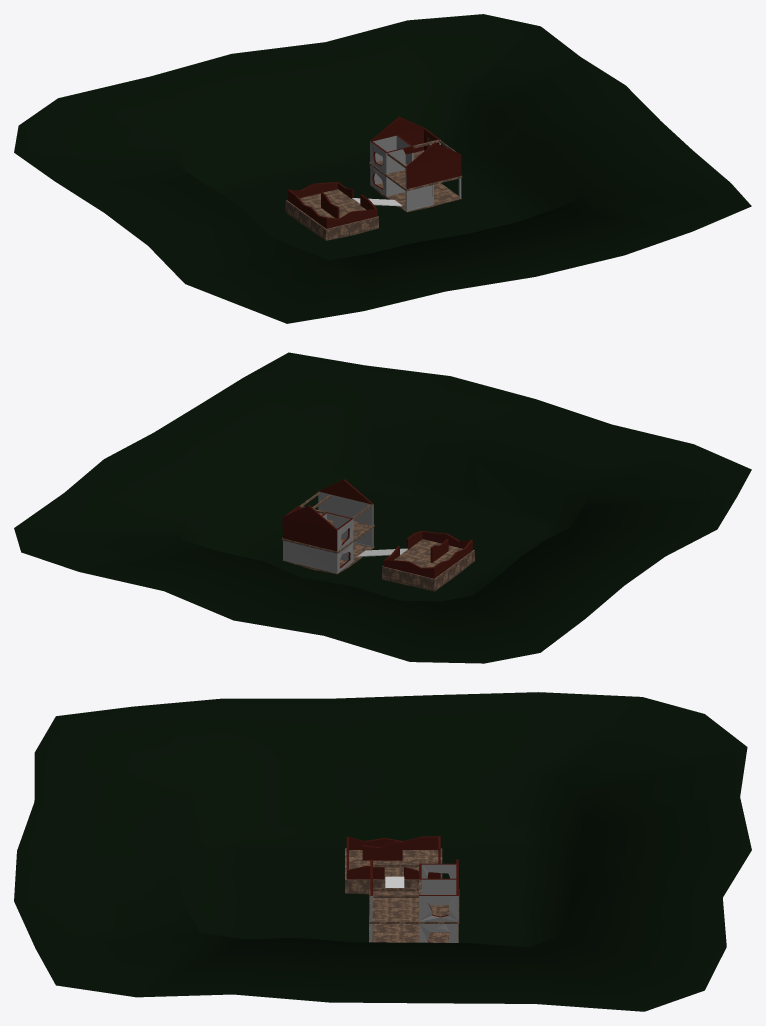
File: forest_level.obj
3 views of the same model, one above another, from view 1: azimuth 30°, elevation 25°; view 2: azimuth 150°, elevation 25°; view 3: azimuth 270°, elevation 25° (orthographic). The views are drawn at different scales.
Visible parts, largest first — view 1: Ground_Grid, Building1_Cube.021, Foundations_Cube.022, Building2_Cube.023; view 2: Ground_Grid, Building1_Cube.021, Foundations_Cube.022, Building2_Cube.023; view 3: Ground_Grid, Building1_Cube.021, Foundations_Cube.022, Building2_Cube.023.
Part boxes in pixels (box(x1,y1,x2,y2)): Ground_Grid: box(14, 14, 751, 323); Building1_Cube.021: box(369, 116, 462, 211); Foundations_Cube.022: box(285, 182, 461, 240); Building2_Cube.023: box(287, 182, 377, 228); Ground_Grid: box(14, 352, 751, 663); Building1_Cube.021: box(281, 479, 374, 573); Foundations_Cube.022: box(283, 539, 474, 591); Building2_Cube.023: box(383, 531, 472, 578); Ground_Grid: box(14, 692, 751, 1011); Building1_Cube.021: box(369, 859, 459, 942); Foundations_Cube.022: box(345, 848, 458, 942); Building2_Cube.023: box(346, 836, 440, 879).
Size of the model in its own units: 77.67 by 9.12 by 77.36.
